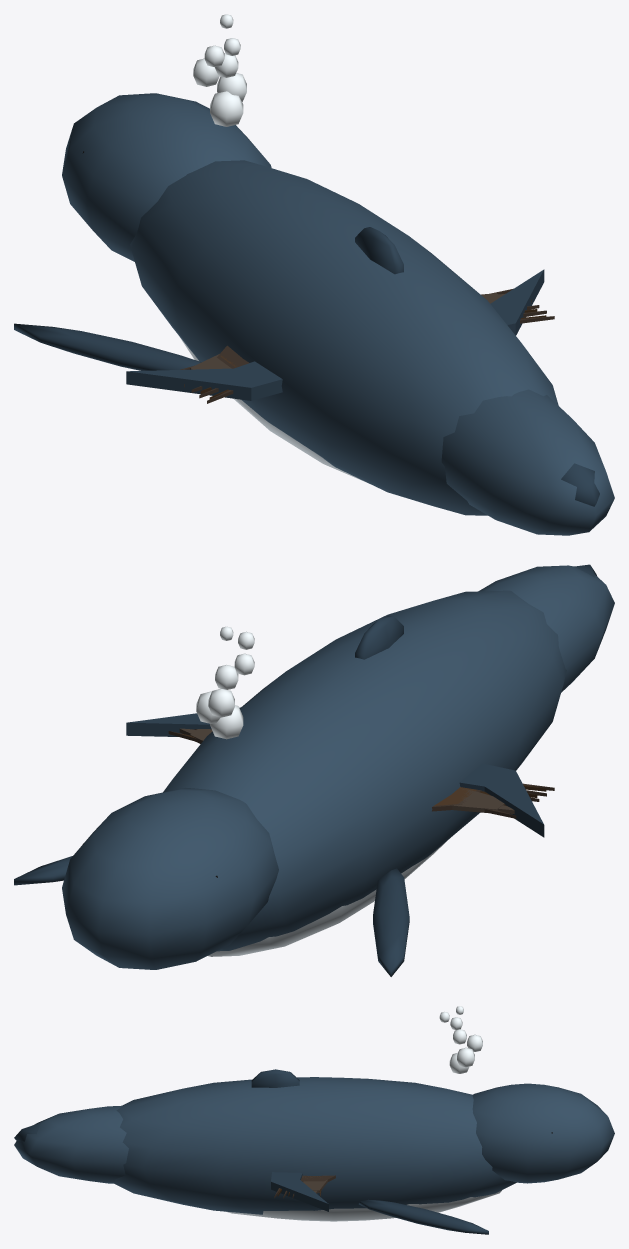
3 views of the same model, one above another, from view 1: azimuth 30°, elevation 25°; view 2: azimuth 150°, elevation 25°; view 3: azimuth 270°, elevation 25° (orthographic). The views are drawn at different scales.
Parts seen in each view (by area): view 1: NL_whale, NL_whale_tail.023; view 2: NL_whale, NL_whale_tail.023, NL_wing_in_albatrossL; view 3: NL_whale, NL_whale_tail.023.
Boxes of the visible parts, <box> form: NL_whale: <box>14,14,614,535</box>; NL_whale_tail.023: <box>126,269,544,400</box>; NL_whale: <box>14,564,614,976</box>; NL_whale_tail.023: <box>126,707,544,837</box>; NL_wing_in_albatrossL: <box>452,788,504,813</box>; NL_whale: <box>14,1006,614,1234</box>; NL_whale_tail.023: <box>271,1172,328,1211</box>.
Size of the model in its own units: 3 by 2.38 by 6.2.
